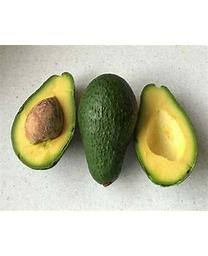avocado: (133, 82, 200, 188), (78, 73, 139, 188), (10, 71, 77, 172)
